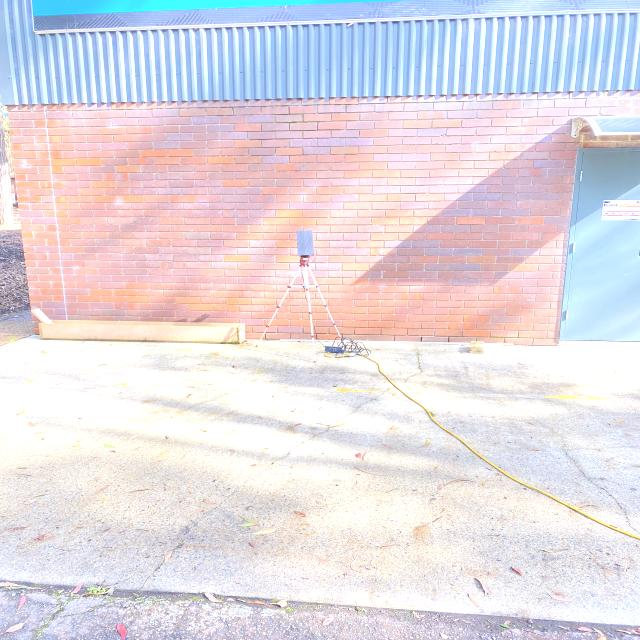matrix: (295, 230, 315, 256)
